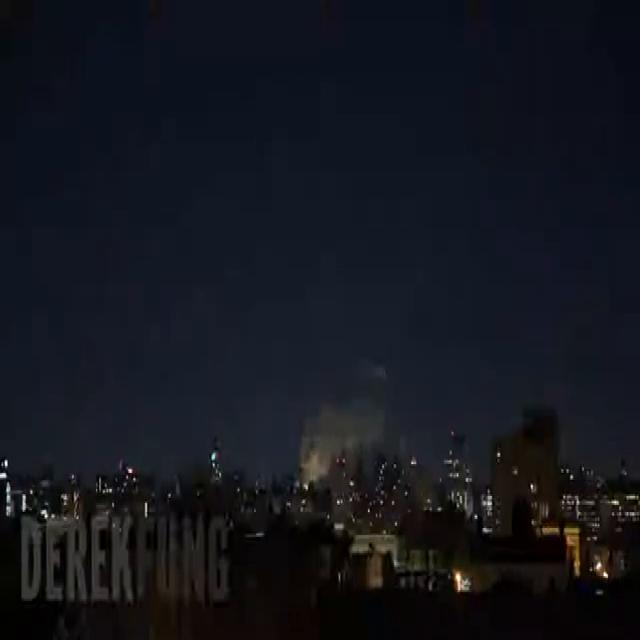smoke: (299, 363, 406, 480)
